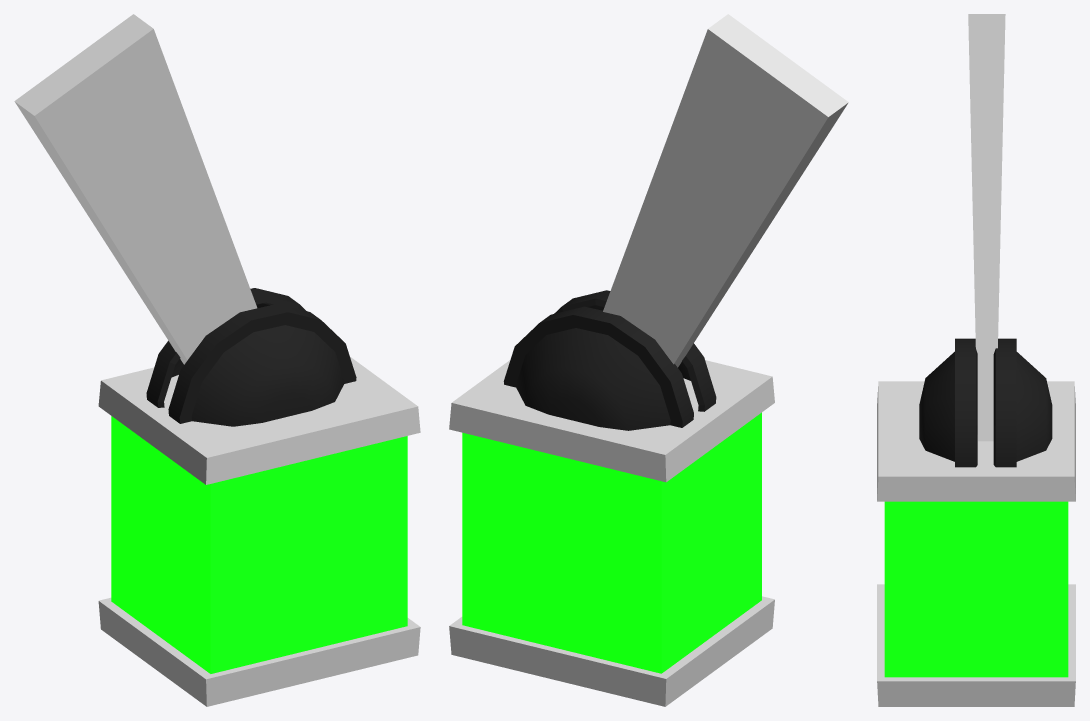
File: Switch.FBX
3 renders of one model, left to right at view 1: azimuth 30°, elevation 25°; view 2: azimuth 150°, elevation 25°; view 3: azimuth 270°, elevation 25°, orthographic. The views are drawn at different scales.
Visible parts, largest first — view 1: Group104, Box038, Box1317; view 2: Group104, Box038, Box1317; view 3: Group104, Box1317, Box038.
Boxes of the visible parts, x1,y1,x2,y2 form: Group104: (111,288,407,673); Box038: (14,14,257,364); Box1317: (98,357,420,706); Group104: (462,290,761,673); Box038: (603,14,848,367); Box1317: (449,360,774,706); Group104: (884,338,1068,677); Box1317: (877,381,1075,706); Box038: (968,14,1005,441).
Bounding box in the file's own units: 28.78 × 52.57 × 15.91.
